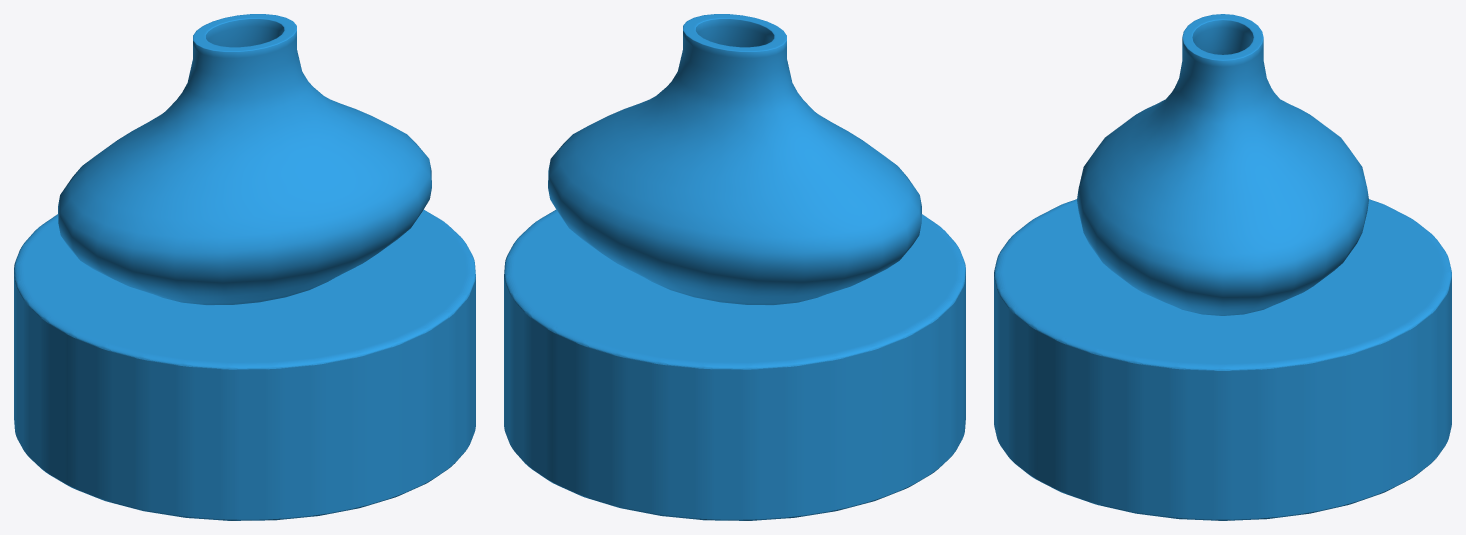
The model's file is pottery.glb.
The picture shows the model from 3 angles, left to right: view 1: azimuth 30°, elevation 25°; view 2: azimuth 150°, elevation 25°; view 3: azimuth 270°, elevation 25°; orthographic projection.
Parts seen in each view (by area): view 1: Cylinder, Vase_01; view 2: Cylinder, Vase_01; view 3: Cylinder, Vase_01.
Boxes of the visible parts, bbox=[...] form: Cylinder: bbox=[14, 210, 475, 520]; Vase_01: bbox=[58, 14, 431, 305]; Cylinder: bbox=[504, 210, 965, 520]; Vase_01: bbox=[548, 14, 921, 305]; Cylinder: bbox=[994, 199, 1451, 520]; Vase_01: bbox=[1077, 14, 1368, 315].
Bounding box in the file's own units: 1.82 × 1.71 × 1.82.
